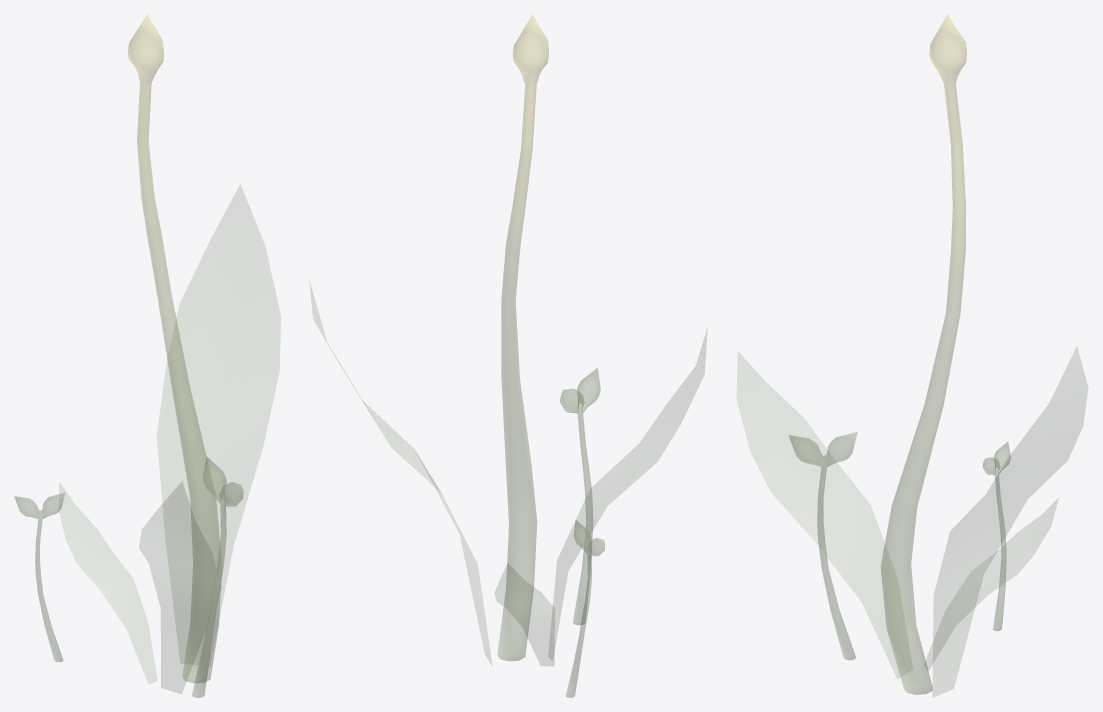
The model's file is flowerS1.fbx.
3 renders of one model, left to right at view 1: azimuth 30°, elevation 25°; view 2: azimuth 150°, elevation 25°; view 3: azimuth 270°, elevation 25°, orthographic.
Visible parts, largest first — view 1: flowerSTAGE1; view 2: flowerSTAGE1; view 3: flowerSTAGE1.
Part boxes in pixels (bbox=[...]): flowerSTAGE1: bbox=[14, 14, 280, 697]; flowerSTAGE1: bbox=[310, 14, 706, 697]; flowerSTAGE1: bbox=[737, 14, 1087, 696].
Size of the model in its own units: 16.17 by 37.82 by 18.26.
